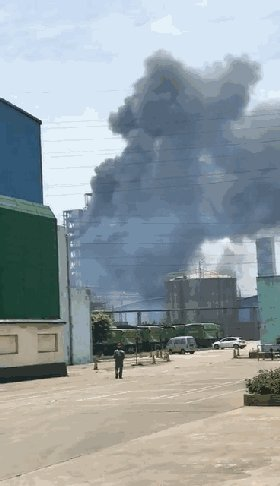smoke: (57, 58, 280, 275)
